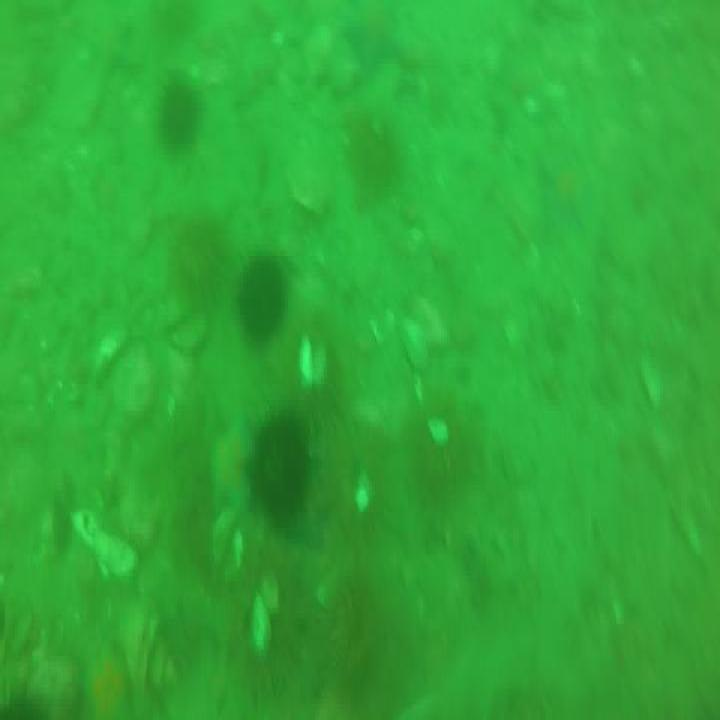echinus: (327, 574, 389, 697), (251, 407, 309, 521), (409, 398, 461, 509), (169, 208, 223, 308), (233, 258, 287, 341), (150, 77, 197, 156)
scallop: (211, 505, 244, 583), (250, 571, 279, 654), (399, 313, 427, 368), (297, 338, 328, 386), (97, 329, 122, 368), (354, 476, 374, 518)
starfish: (78, 640, 134, 720)
